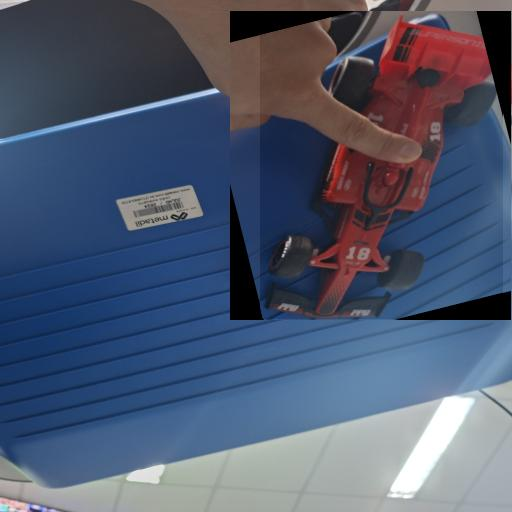carro: (261, 11, 503, 319)
